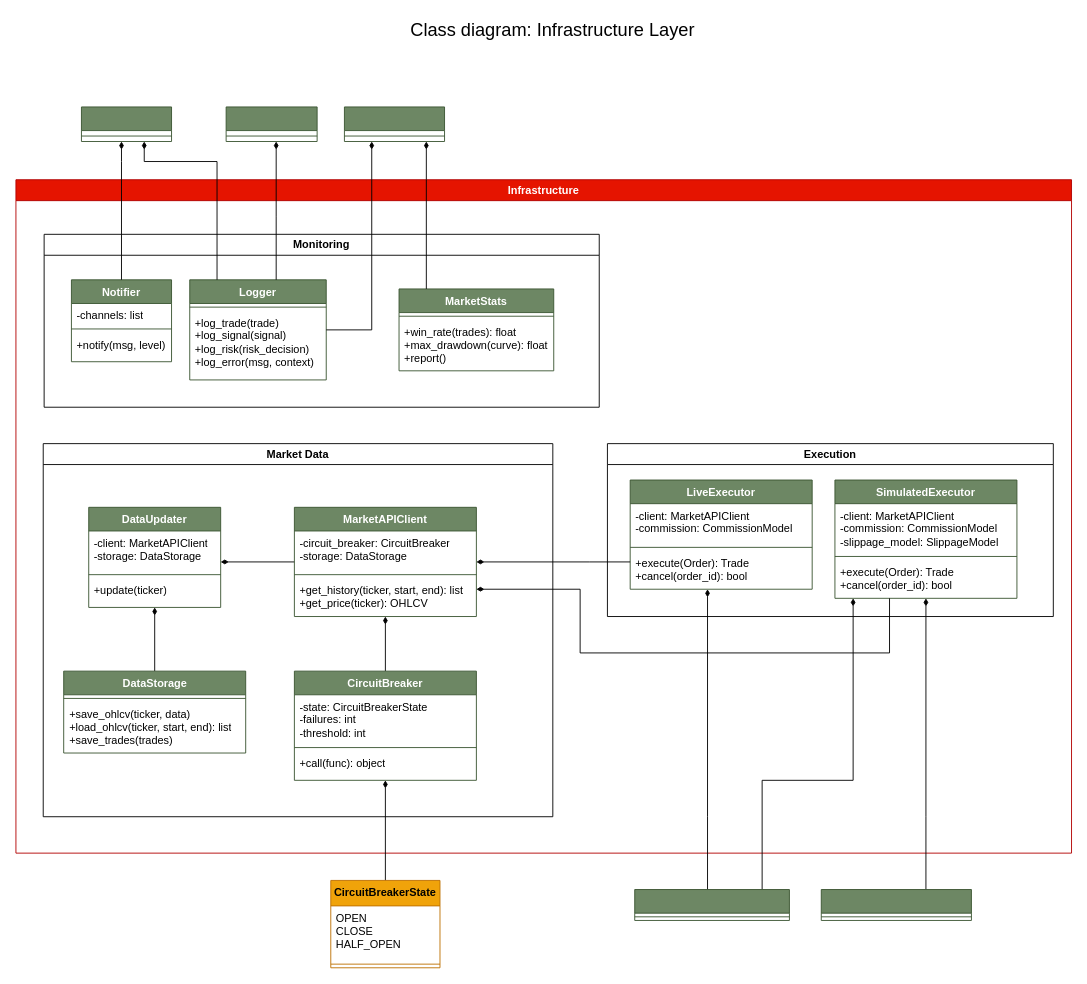
Some shapes in this 1087 by 984 pixel diagram are drawn without their labels. Here are the shapes that lost their labels. From the top down, the centre of each, then its label:
(x=126, y=124): ModelRunner
(x=271, y=124): PaperRunner
(x=394, y=124): BacktestRunner
(x=711, y=904): CommissionModel
(x=895, y=904): SlippageModel
